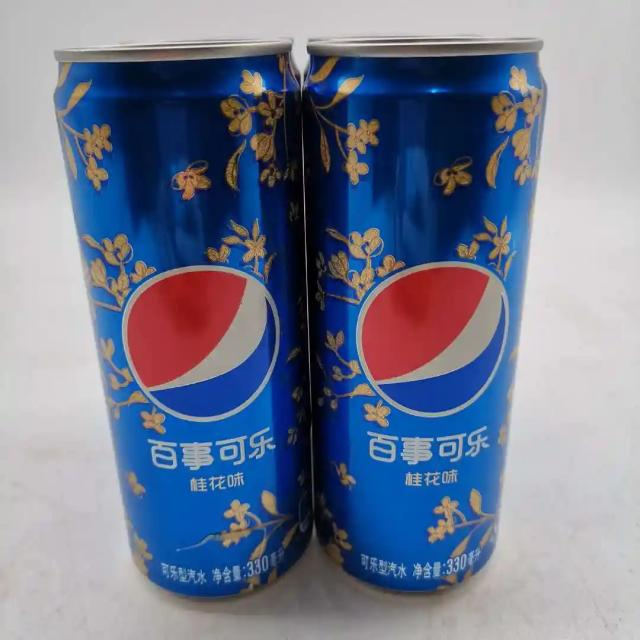can: (48, 36, 314, 602), (305, 31, 549, 598)
